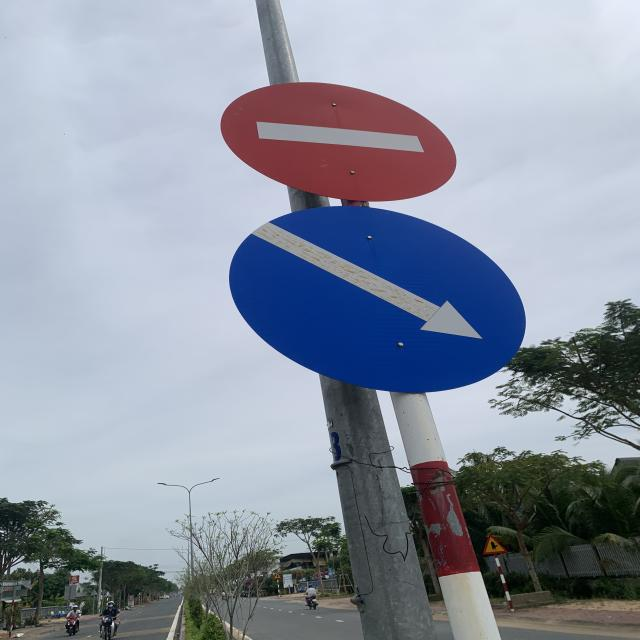Cam_Di_Nguoc_Chieu: (221, 82, 460, 204)
Chi_Huong_Di_Phai: (230, 206, 532, 391)
